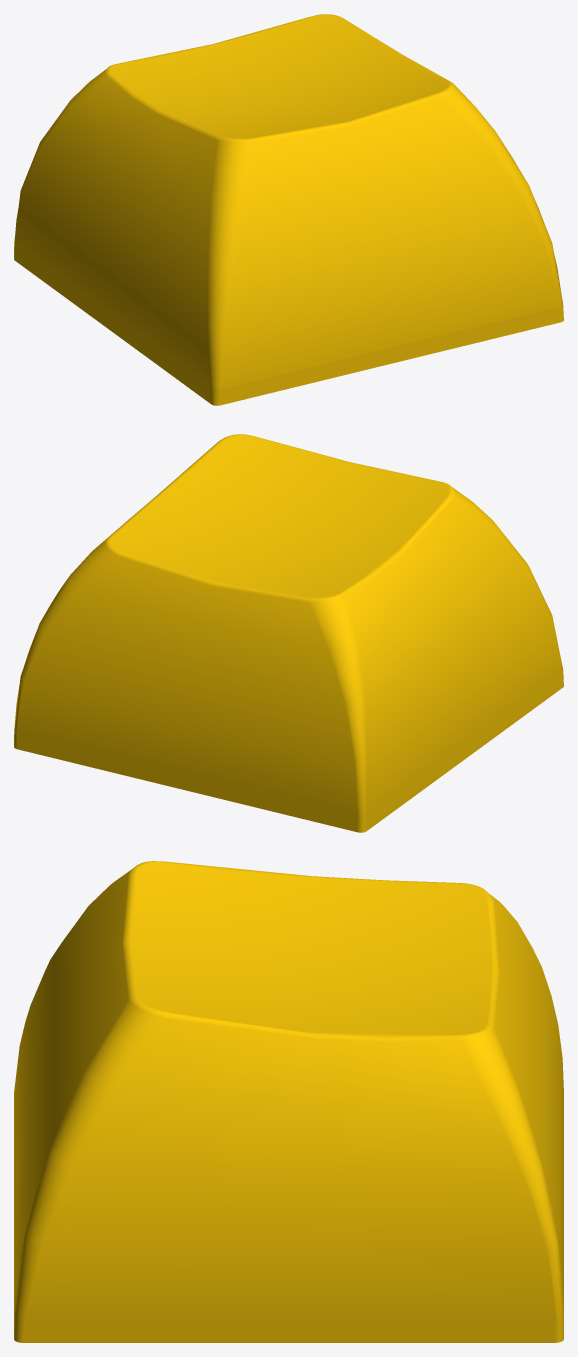
The model's file is KAT_1u_r5.glb.
3 views of the same model, one above another, from view 1: azimuth 30°, elevation 25°; view 2: azimuth 150°, elevation 25°; view 3: azimuth 270°, elevation 25° (orthographic). The views are drawn at different scales.
Visible parts, largest first — view 1: Object.077; view 2: Object.077; view 3: Object.077.
Part boxes in pixels (box(x1,y1,x2,y2)): Object.077: box(14, 14, 563, 405); Object.077: box(14, 434, 563, 832); Object.077: box(14, 861, 563, 1342).
Bounding box in the file's own units: 18.2 × 10.68 × 18.2.
